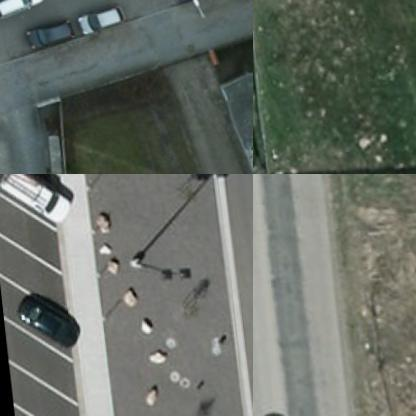car: (14, 283, 86, 355), (26, 7, 76, 55), (76, 0, 132, 35), (0, 0, 47, 21)
pickup: (0, 174, 75, 231)
